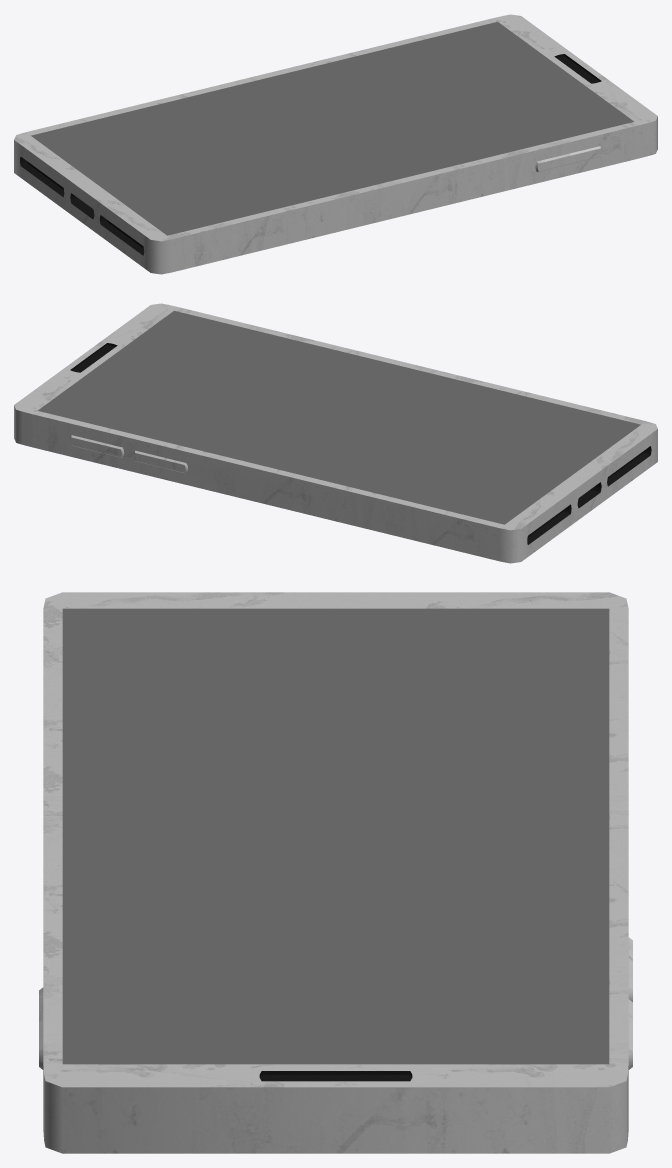
Rendered from telefon.glb.
3 renders of one model, top to bottom at view 1: azimuth 30°, elevation 25°; view 2: azimuth 150°, elevation 25°; view 3: azimuth 270°, elevation 25°, orthographic. The views are drawn at different scales.
Visible parts, largest first — view 1: Box001 (×4); view 2: Box001 (×4); view 3: Box001 (×3).
Part boxes in pixels (box(x1,y1,x2,y2)): Box001 (×4): box(14, 14, 657, 274); Box001 (×4): box(14, 303, 657, 563); Box001 (×3): box(39, 592, 632, 1153).
Size of the model in its own units: 2 by 0.14 by 1.01.
Materials: 5 (5 with a texture image).
